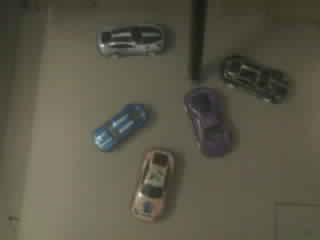Car: (184, 87, 230, 155), (222, 56, 287, 102), (132, 150, 174, 220), (95, 104, 146, 151), (97, 25, 163, 55)
